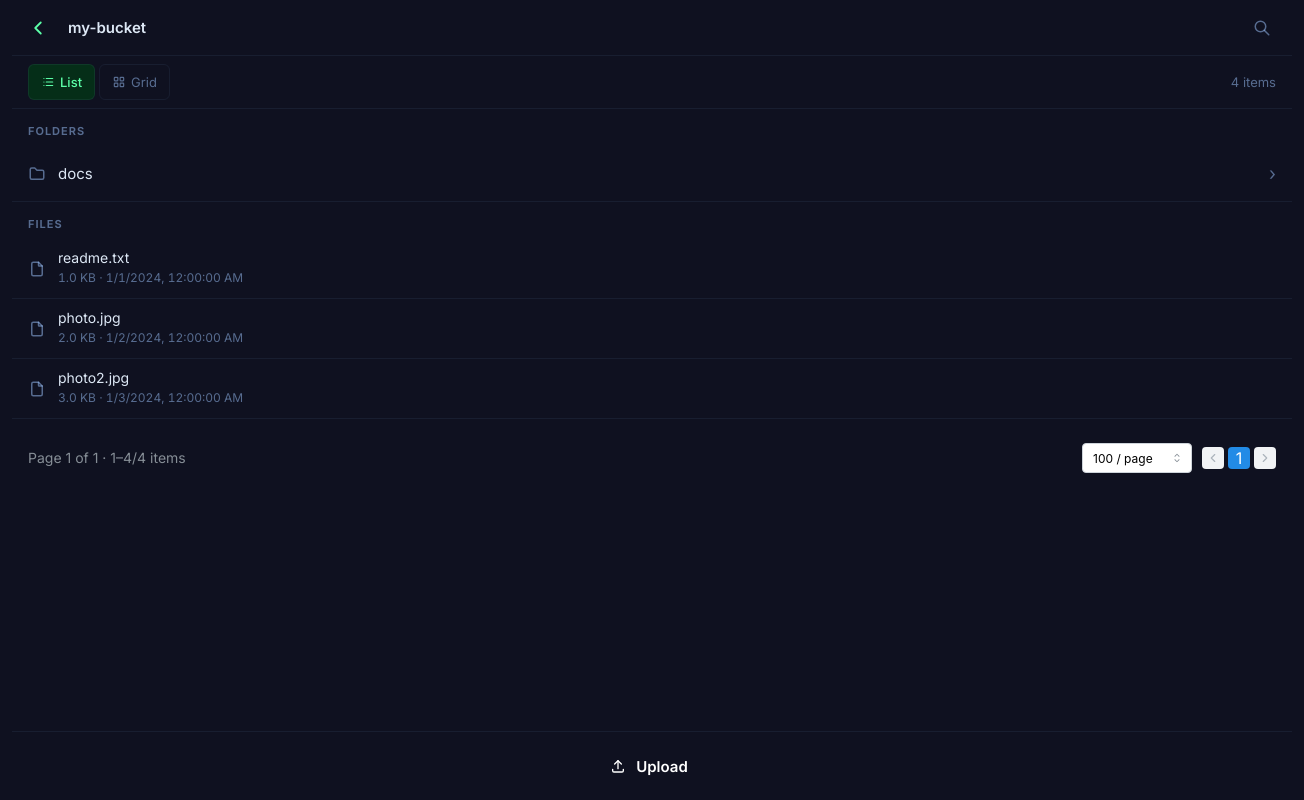
ObjectInspector — mobile (390px) › peek sheet shows file metadata
Click the text "readme.txt": x=94, y=258 [58,249,129,266]
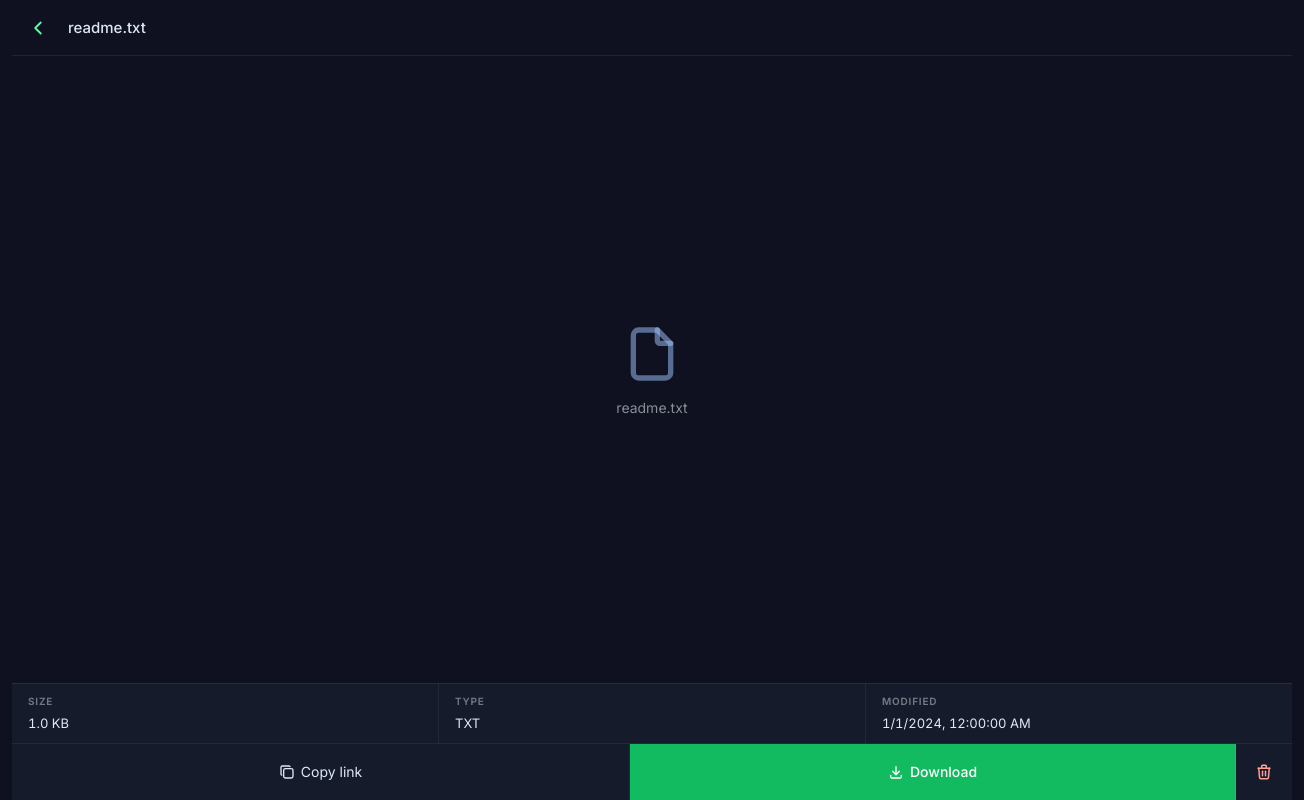
Check: the text "Size" is shown, box [28,695,53,707]
Check: the text "Modified" is shown, box [882,695,937,707]
